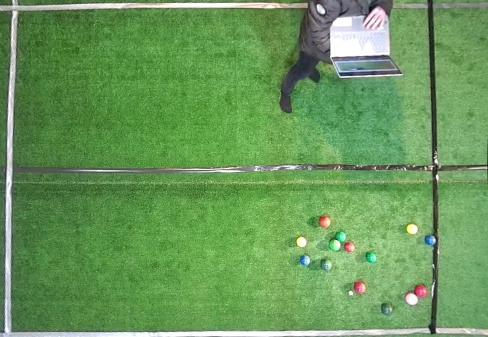blue: (299, 255, 310, 266), (425, 235, 437, 245)
green: (329, 239, 341, 252), (321, 259, 332, 271), (381, 304, 393, 315), (366, 252, 377, 263), (336, 232, 346, 242)
red: (414, 285, 428, 297), (405, 293, 418, 305), (354, 282, 366, 294), (319, 216, 331, 228), (344, 242, 356, 252)
vline: (427, 0, 487, 336), (0, 0, 19, 336)
white: (349, 291, 353, 295)
yellow: (406, 224, 418, 235), (296, 237, 307, 247)
